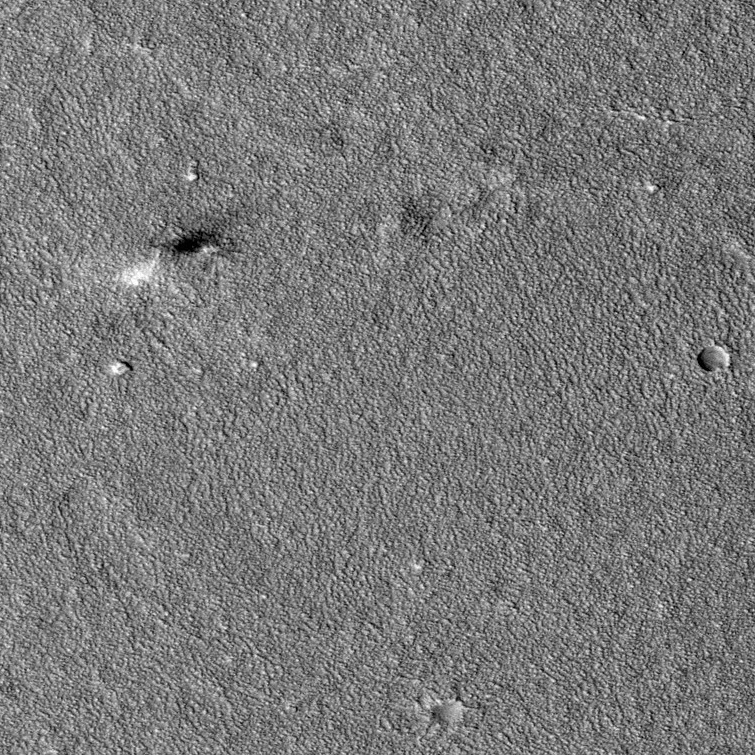dust_devil: (116, 225, 231, 295)
